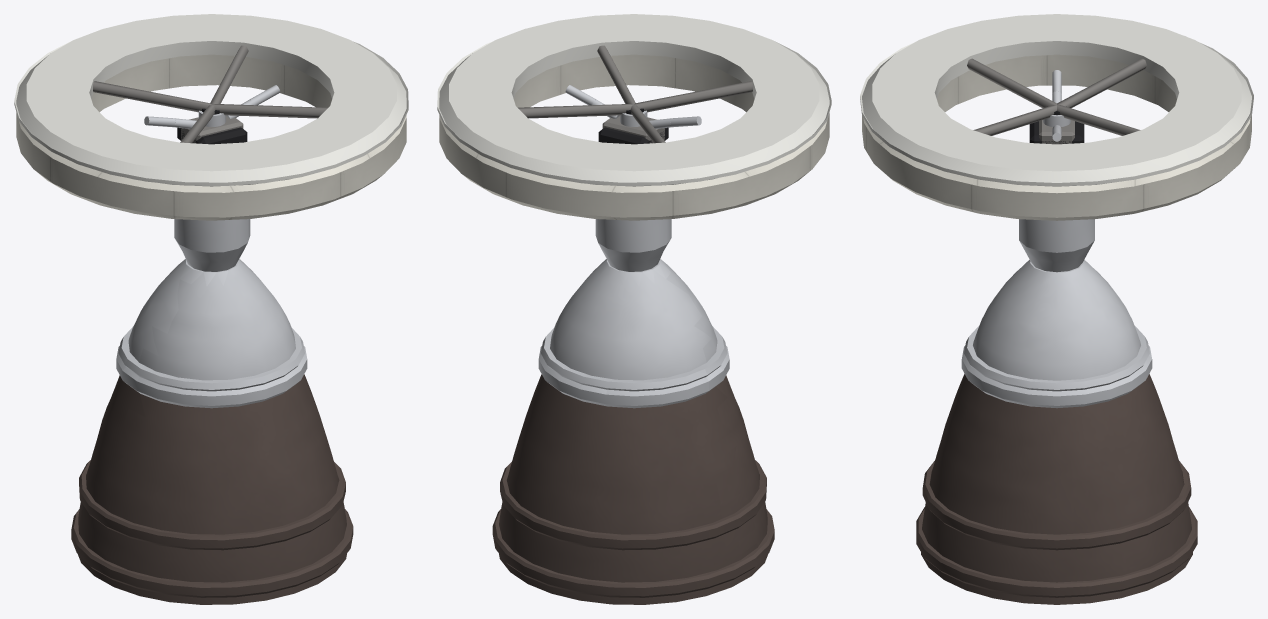
File: ax_prop_08_oms_hypergolic_xs.glb
3 renders of one model, left to right at view 1: azimuth 30°, elevation 25°; view 2: azimuth 150°, elevation 25°; view 3: azimuth 270°, elevation 25°, orthographic.
Parts seen in each view (by area): view 1: nozzle_extension, mount_ring, thermal_blanket_ring, regen_nozzle, extension_hoops, thrust_struts, joint_flange, chamber, regen_manifold, plumbing, gimbal; view 2: nozzle_extension, mount_ring, thermal_blanket_ring, regen_nozzle, extension_hoops, thrust_struts, joint_flange, chamber, regen_manifold, plumbing, gimbal; view 3: nozzle_extension, mount_ring, thermal_blanket_ring, regen_nozzle, extension_hoops, thrust_struts, chamber, joint_flange, regen_manifold, valve_block, gimbal.
Part boxes in pixels (<box>): nozzle_extension: <box>78,374,346,604</box>; mount_ring: <box>14,14,408,186</box>; thermal_blanket_ring: <box>16,54,406,220</box>; regen_nozzle: <box>128,259,295,380</box>; extension_hoops: <box>71,460,353,597</box>; thrust_struts: <box>93,45,327,143</box>; joint_flange: <box>116,346,307,408</box>; chamber: <box>174,219,250,271</box>; regen_manifold: <box>118,326,304,391</box>; plumbing: <box>144,85,280,128</box>; gimbal: <box>177,108,247,144</box>; nozzle_extension: <box>499,374,767,604</box>; mount_ring: <box>437,14,831,186</box>; thermal_blanket_ring: <box>439,54,829,220</box>; regen_nozzle: <box>550,259,717,380</box>; extension_hoops: <box>492,460,774,597</box>; thrust_struts: <box>518,45,752,143</box>; joint_flange: <box>538,346,729,408</box>; chamber: <box>595,219,671,271</box>; regen_manifold: <box>541,326,727,391</box>; plumbing: <box>565,85,701,128</box>; gimbal: <box>598,108,668,144</box>; nozzle_extension: <box>921,374,1192,604</box>; mount_ring: <box>860,14,1253,186</box>; thermal_blanket_ring: <box>862,54,1251,220</box>; regen_nozzle: <box>973,260,1140,380</box>; extension_hoops: <box>916,461,1197,597</box>; thrust_struts: <box>967,58,1146,135</box>; chamber: <box>1019,219,1094,272</box>; joint_flange: <box>961,346,1152,408</box>; regen_manifold: <box>964,326,1149,391</box>; valve_block: <box>1039,120,1074,144</box>; gimbal: <box>1029,106,1084,143</box>.
Size of the model in its own units: 0.625 by 0.7952 by 0.6245.
6 materials, 4 textured.
